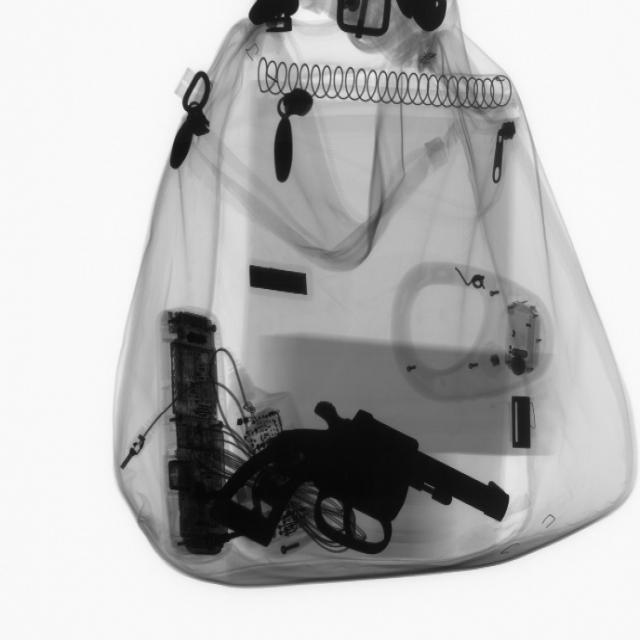GUN: (201, 402, 511, 554)
